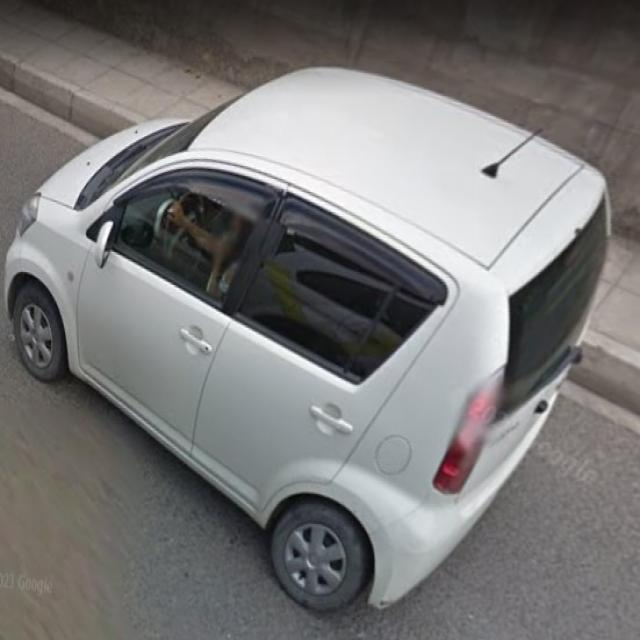cars: (12, 70, 611, 612)
